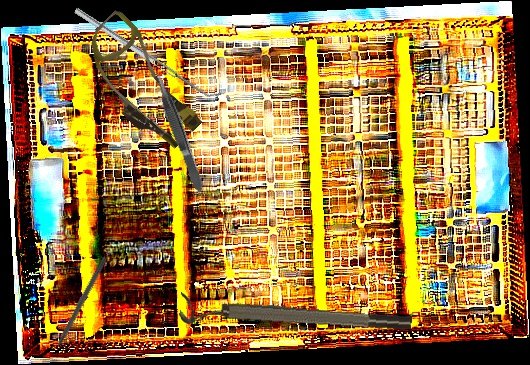Cannula: (67, 7, 216, 159)
Fixation Ring: (178, 292, 413, 344)
Hook Surgical: (48, 255, 108, 360)
Spatula Surgical: (73, 2, 223, 105)
Tissue Forceps: (150, 68, 207, 195)
